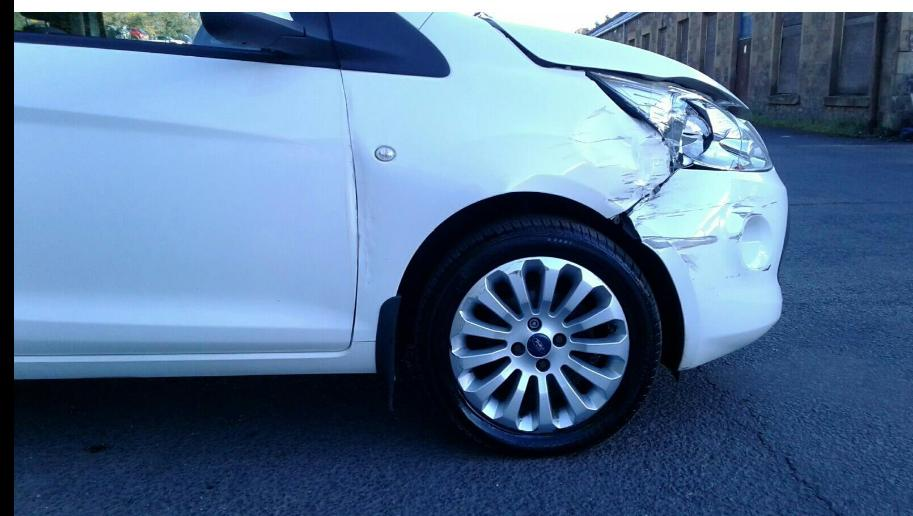Fender: (341, 13, 675, 342)
Front-bumper: (623, 165, 791, 368)
Front-door: (10, 11, 362, 355)
Front-wheel: (402, 214, 666, 456)
Front-window: (11, 11, 341, 70)
Headlight: (589, 70, 772, 171)
Hood: (484, 14, 750, 106)
Mirror: (198, 11, 303, 57)
Rocker-panel: (14, 339, 376, 381)
